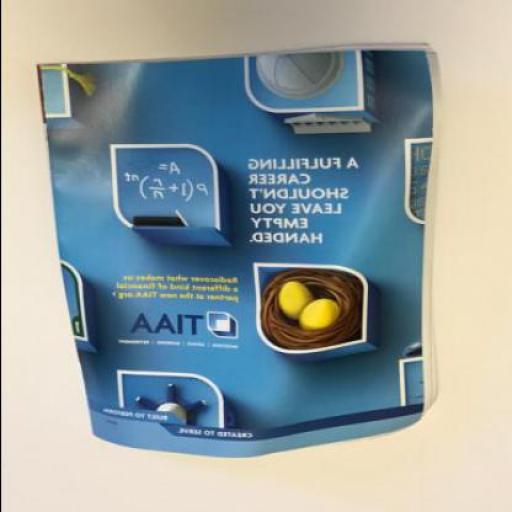paper: (38, 44, 438, 460)
